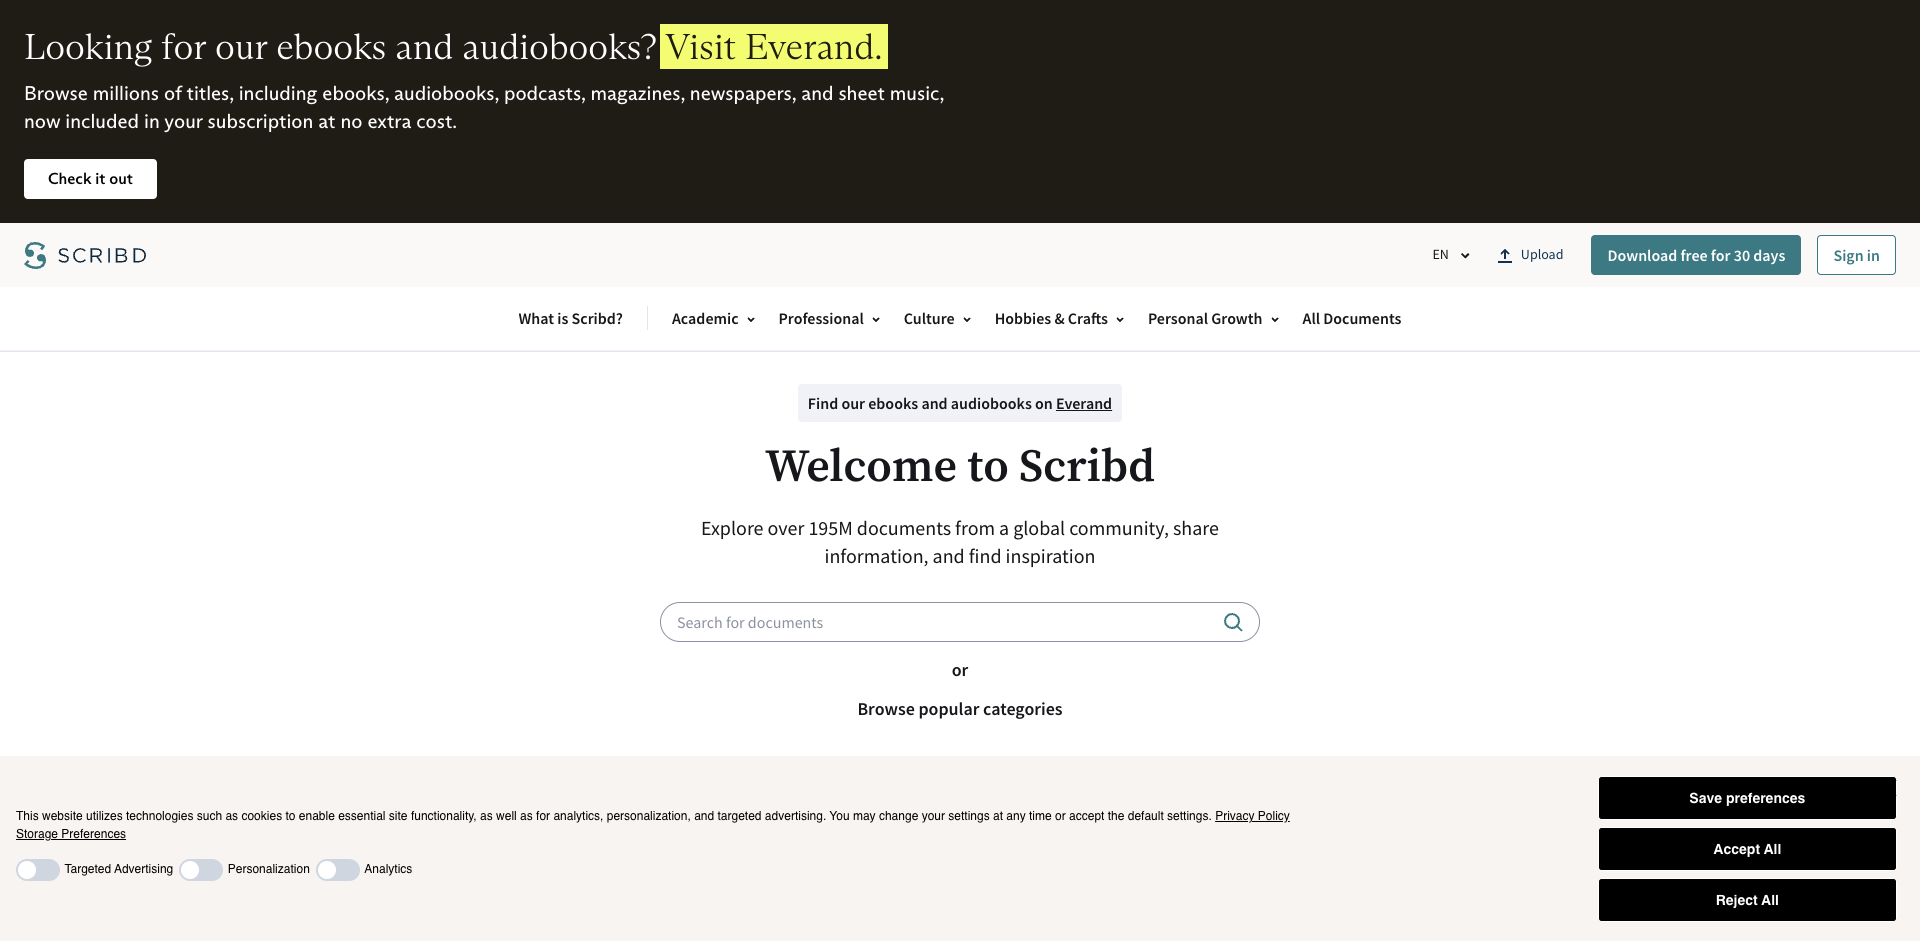button: (1591, 772, 1904, 925), (555, 761, 809, 844), (833, 761, 1087, 844), (1111, 761, 1365, 844), (555, 869, 809, 941), (833, 869, 1087, 941), (1111, 869, 1365, 941), (1598, 776, 1897, 820), (1598, 877, 1897, 921), (1598, 827, 1897, 870), (1592, 235, 1801, 274), (24, 159, 157, 198), (1817, 235, 1896, 274), (1147, 306, 1278, 330), (518, 306, 648, 330), (994, 306, 1124, 330), (967, 285, 1026, 326), (779, 306, 879, 330), (1303, 306, 1402, 330), (1864, 765, 1911, 812), (672, 306, 754, 330), (904, 306, 971, 330), (1222, 602, 1260, 642), (1496, 244, 1564, 266), (1433, 244, 1473, 266)
input: (660, 602, 1260, 642)
label: (660, 611, 1260, 631), (16, 859, 179, 881), (179, 859, 316, 881), (316, 859, 419, 881)
link: (0, 0, 1920, 223), (16, 826, 1583, 843), (798, 384, 1122, 421), (24, 241, 146, 268), (1215, 810, 1289, 825)
